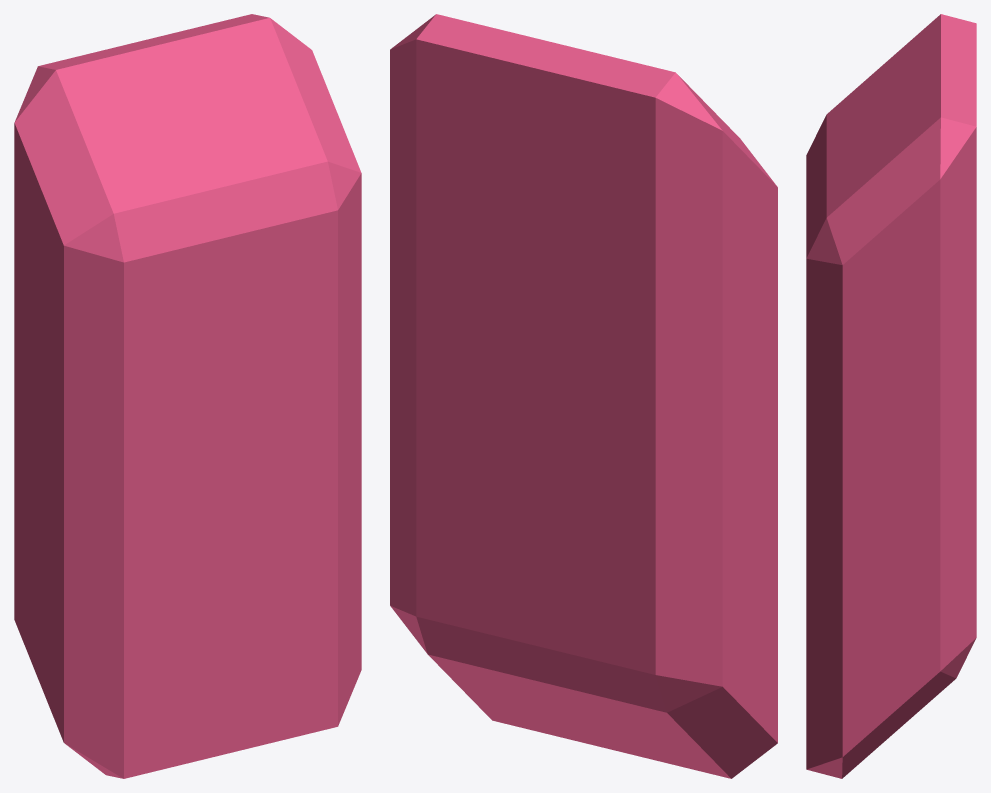
The model's file is 7a374539-302f-48b7-97f9-156e0ad32eff.glb.
3 views of the same model, side by side, from view 1: azimuth 30°, elevation 25°; view 2: azimuth 150°, elevation 25°; view 3: azimuth 270°, elevation 25° (orthographic). The views are drawn at different scales.
Visible parts, largest first — view 1: pCube3; view 2: pCube3; view 3: pCube3.
Boxes of the visible parts, x1=… form: pCube3: x1=14, y1=14, x2=361, y2=778; pCube3: x1=390, y1=14, x2=777, y2=778; pCube3: x1=806, y1=14, x2=976, y2=778.
Bounding box in the file's own units: 33.35 × 71.57 × 16.69.
